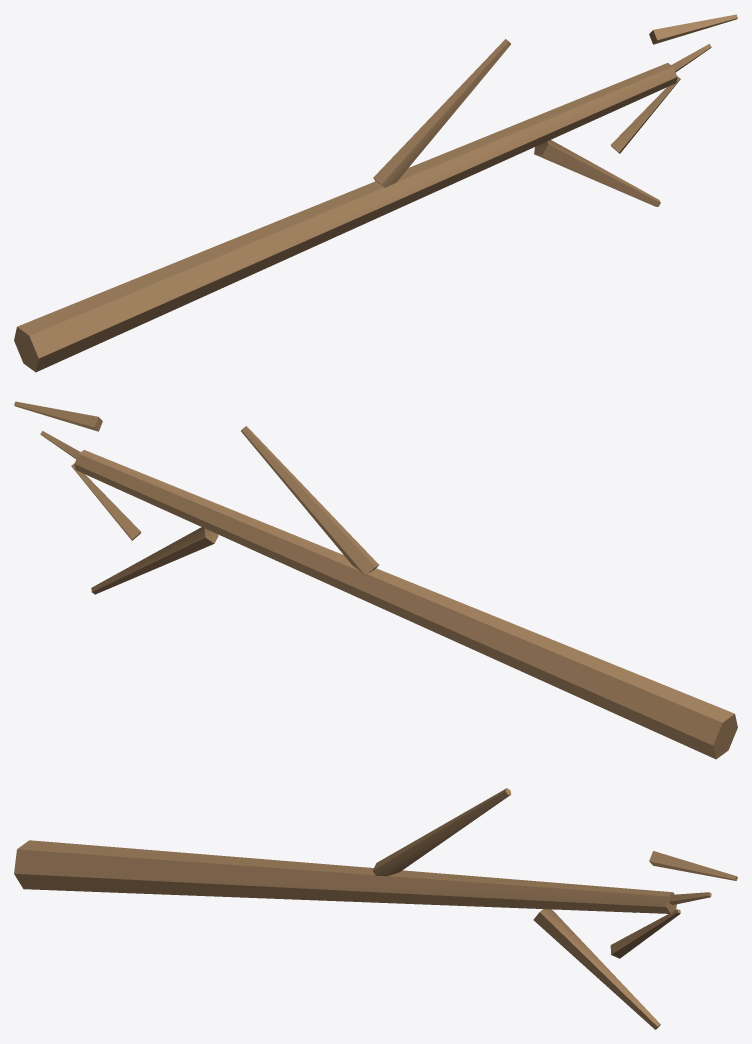
Rendered from snowman_part_twig.glb.
The picture shows the model from 3 angles, top to bottom: view 1: azimuth 30°, elevation 25°; view 2: azimuth 150°, elevation 25°; view 3: azimuth 330°, elevation 25°; orthographic projection.
Bounding box in the file's own units: 0.5985 × 0.1703 × 0.036.
